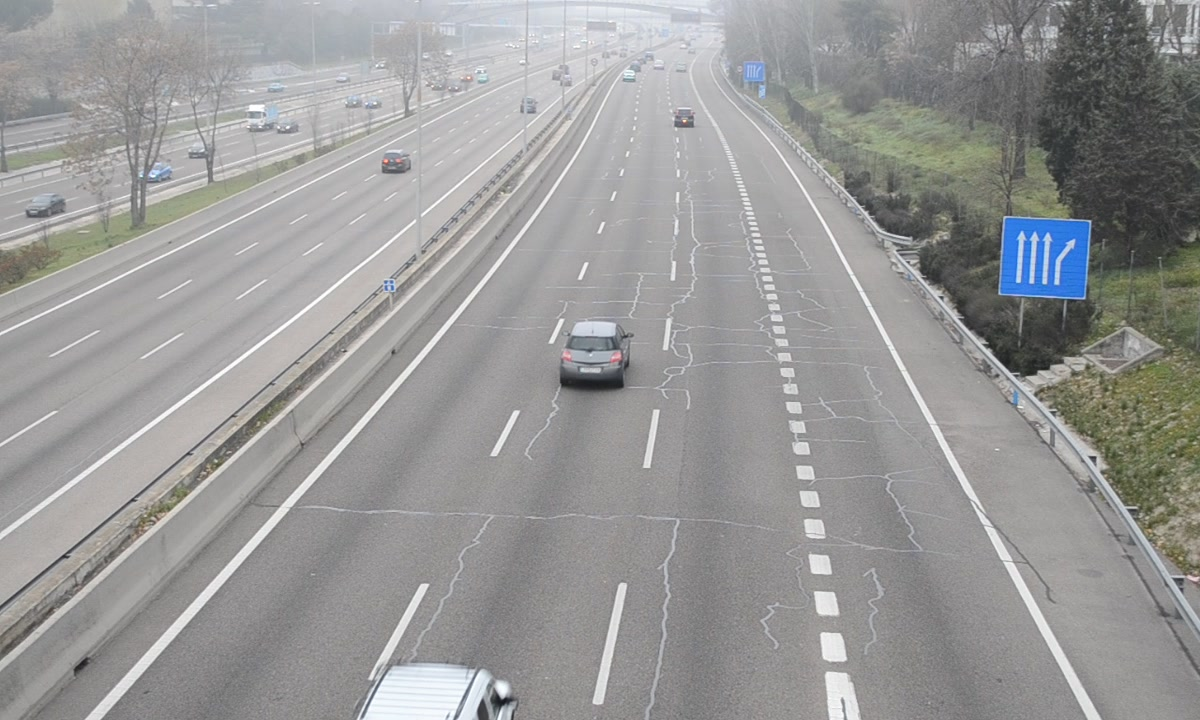car: (560, 321, 630, 384), (673, 108, 695, 129)
